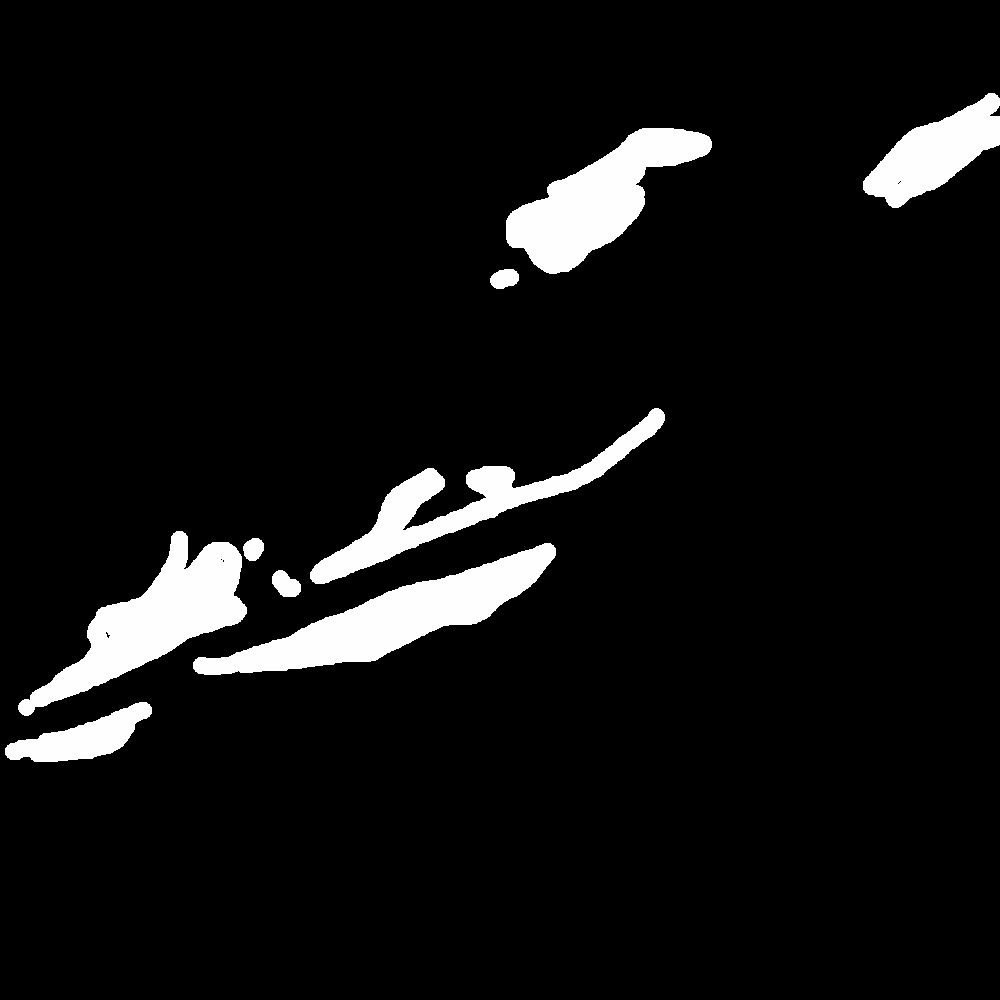illegal: (502, 118, 754, 280), (259, 542, 553, 669), (88, 539, 264, 680), (348, 476, 514, 568), (864, 101, 1000, 192), (518, 459, 616, 507), (922, 4, 1000, 63), (49, 720, 115, 767), (19, 676, 85, 713), (620, 420, 648, 456), (17, 739, 39, 750)
